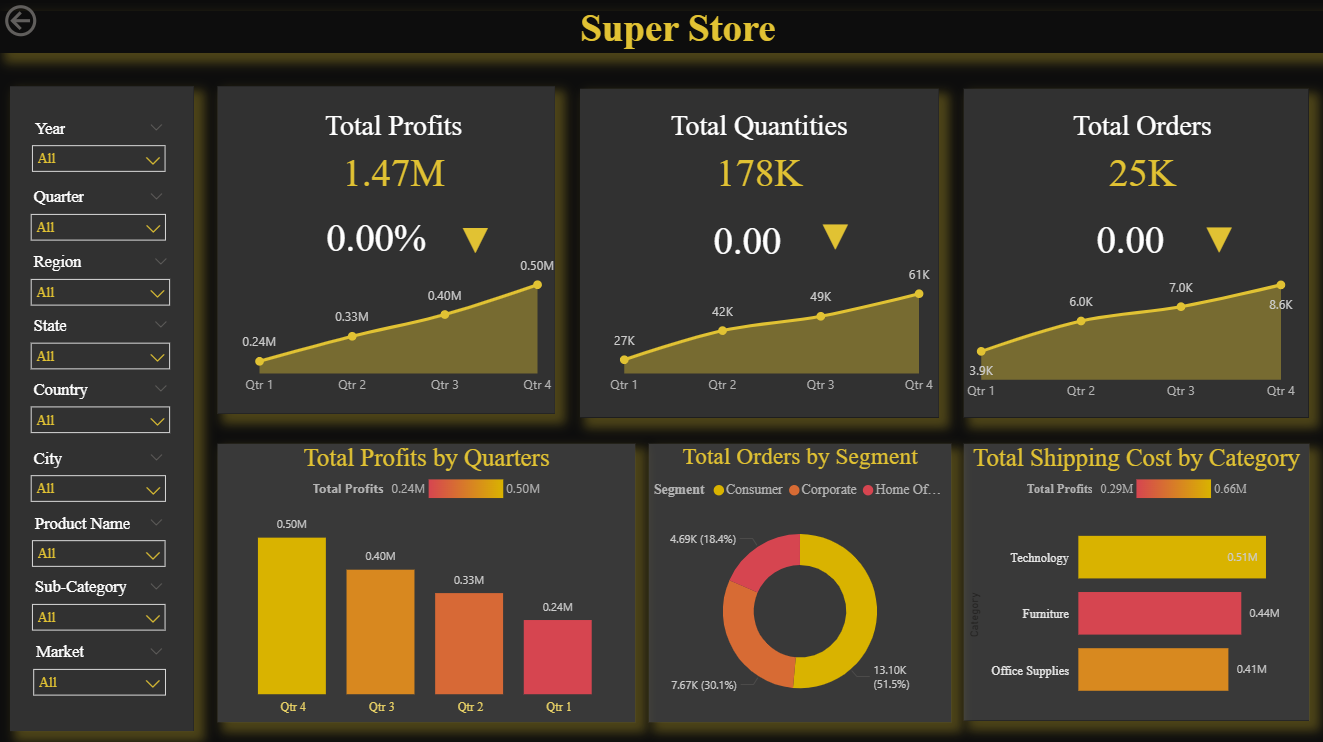

What the dashboard file says about the page in this screenshot:
{"tool":"powerbi","page":{"name":"Dashboard","canvas":[1280,720],"ordinal":1},"visuals":[{"type":"textbox","box":[555,0,331.8,71.2],"z":0},{"type":"shape","box":[0,10.9,1280,39.8],"z":1000},{"type":"shape","box":[209.9,83.2,325.7,316.1],"z":2000},{"type":"cardVisual","title":"Total Profits","fields":{"Data":["Calender.Total Profits"]},"box":[273.9,90.5,212.3,100.1],"z":3000},{"type":"lineChart","title":"Total Profits by Year","fields":{"Category":["calender.Date.Variation.Date Hierarchy.Quarter"],"Y":["Calender.Total Profits"]},"box":[209.9,234,349.9,155.6],"z":4000},{"type":"cardVisual","title":"Total Profits","fields":{"Data":["Calender.%YOY"]},"box":[277.5,183.4,171.3,76],"z":5000},{"type":"shape","box":[559.8,85.7,346.2,317.3],"z":6000},{"type":"cardVisual","title":"Total Profits","fields":{"Data":["Calender.Total Quantities"]},"box":[626.1,90.5,213.5,101.3],"z":7000},{"type":"lineChart","title":"Total Profits by Year","fields":{"Category":["calender.Date.Variation.Date Hierarchy.Quarter"],"Y":["Calender.Total Quantities"]},"box":[559.8,234,370.4,155.6],"z":8000},{"type":"cardVisual","title":"Total Profits","fields":{"Data":["Calender.%YOY Quantitiy"]},"box":[635.8,185.8,171.3,76],"z":9000},{"type":"shape","box":[930.2,85.7,333,317.3],"z":10000},{"type":"cardVisual","title":"Total Profits","fields":{"Data":["Calender.Total orders"]},"box":[990.5,90.5,224.4,101.3],"z":11000},{"type":"lineChart","title":"Total Profits by Year","fields":{"Category":["calender.Date.Variation.Date Hierarchy.Quarter"],"Y":["Calender.Total orders"]},"box":[903.6,241.3,376.4,154.4],"z":12000},{"type":"cardVisual","title":"Total Profits","fields":{"Data":["Calender.%YOY Orders"]},"box":[1005,184.6,172.5,77.2],"z":13000},{"type":"shape","box":[9.7,83.2,177.3,622.5],"z":14000},{"type":"slicer","title":"Total Profits","fields":{"Values":["Orders.State"]},"box":[19.2,300.5,155.1,65.9],"z":15000},{"type":"slicer","title":"Total Profits","fields":{"Values":["Orders.City"]},"box":[19.2,428.1,150.9,63.1],"z":16000},{"type":"slicer","title":"Total Profits","fields":{"Values":["Orders.Country"]},"box":[19.2,362.3,155.1,65.9],"z":17000},{"type":"slicer","title":"Total Profits","fields":{"Values":["calender.Date.Variation.Date Hierarchy.Year"]},"box":[20.6,109.8,149.6,65.9],"z":18000},{"type":"slicer","title":"Total Profits","fields":{"Values":["Orders.Sub-Category"]},"box":[20.6,553,149.6,61.7],"z":19000},{"type":"slicer","title":"Total Profits","fields":{"Values":["Orders.Region"]},"box":[19.2,238.8,155.1,61.7],"z":20000},{"type":"slicer","title":"Total Profits","fields":{"Values":["calender.Date.Variation.Date Hierarchy.Quarter"]},"box":[19.2,175.6,150.9,61.7],"z":21000},{"type":"slicer","title":"Total Profits","fields":{"Values":["Orders.Product Name"]},"box":[20.6,491.3,149.6,61.7],"z":22000},{"type":"slicer","title":"Total Profits","fields":{"Values":["Orders.Market"]},"box":[22,614.8,148.2,61.7],"z":23000},{"type":"clusteredColumnChart","title":"Total Profits by Quarters","fields":{"Y":["Calender.Total Profits"],"Category":["calender.Date.Variation.Date Hierarchy.Quarter"]},"box":[209.9,428.1,403.4,269],"z":24000},{"type":"actionButton","box":[0,0,100,40],"z":25000},{"type":"donutChart","title":"Total Orders by Segment","fields":{"Category":["Orders.Segment"],"Y":["Calender.Total orders"]},"box":[625.7,428.1,292.3,269],"z":26000},{"type":"clusteredBarChart","title":"Total Shipping Cost by Category","fields":{"Category":["Orders.Category"],"Y":["Sum(Orders.Shipping Cost)"]},"box":[930.4,428.1,333.4,267.6],"z":27000},{"type":"cardVisual","fields":{"Data":["Orders.arrow1"]},"box":[424.7,184.6,68.8,85.7],"z":28000},{"type":"cardVisual","fields":{"Data":["Orders.arrow2"]},"box":[772.1,182.2,68.8,85.7],"z":29000},{"type":"cardVisual","fields":{"Data":["Orders.arrow3"]},"box":[1142.5,184.6,68.8,85.7],"z":30000}]}

Visuals, with their boxes in screenshot pixels (x1, y1, x2, y2), scaled from the page's 1280x720 canvas onto the 1323x742 screenshot:
textbox: <region>574, 0, 917, 73</region>
shape: <region>0, 11, 1322, 52</region>
shape: <region>217, 86, 554, 412</region>
"Total Profits" cardVisual: <region>283, 93, 503, 196</region>
"Total Profits by Year" lineChart: <region>217, 241, 579, 402</region>
"Total Profits" cardVisual: <region>287, 189, 464, 267</region>
shape: <region>579, 88, 936, 415</region>
"Total Profits" cardVisual: <region>647, 93, 868, 198</region>
"Total Profits by Year" lineChart: <region>579, 241, 961, 402</region>
"Total Profits" cardVisual: <region>657, 191, 834, 270</region>
shape: <region>961, 88, 1306, 415</region>
"Total Profits" cardVisual: <region>1024, 93, 1256, 198</region>
"Total Profits by Year" lineChart: <region>934, 249, 1322, 408</region>
"Total Profits" cardVisual: <region>1039, 190, 1217, 270</region>
shape: <region>10, 86, 193, 727</region>
"Total Profits" slicer: <region>20, 310, 180, 378</region>
"Total Profits" slicer: <region>20, 441, 176, 506</region>
"Total Profits" slicer: <region>20, 373, 180, 441</region>
"Total Profits" slicer: <region>21, 113, 176, 181</region>
"Total Profits" slicer: <region>21, 570, 176, 633</region>
"Total Profits" slicer: <region>20, 246, 180, 310</region>
"Total Profits" slicer: <region>20, 181, 176, 245</region>
"Total Profits" slicer: <region>21, 506, 176, 570</region>
"Total Profits" slicer: <region>23, 634, 176, 697</region>
"Total Profits by Quarters" clusteredColumnChart: <region>217, 441, 634, 718</region>
actionButton: <region>0, 0, 103, 41</region>
"Total Orders by Segment" donutChart: <region>647, 441, 949, 718</region>
"Total Shipping Cost by Category" clusteredBarChart: <region>962, 441, 1306, 717</region>
cardVisual - Orders.arrow1: <region>439, 190, 510, 279</region>
cardVisual - Orders.arrow2: <region>798, 188, 869, 276</region>
cardVisual - Orders.arrow3: <region>1181, 190, 1252, 279</region>
